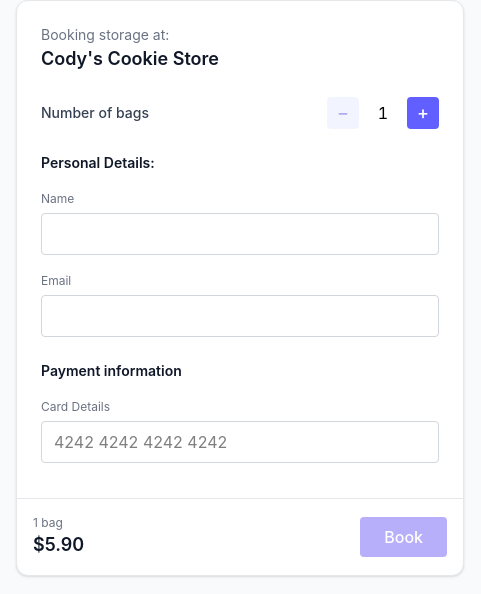
Scenario: BookingForm › updates the price when bags change
Expected: the heading "Cody's Cookie Store" is shown, [41,48,219,69]
Click the button named "Add a bag" at [423, 113], box [407,97,439,129]
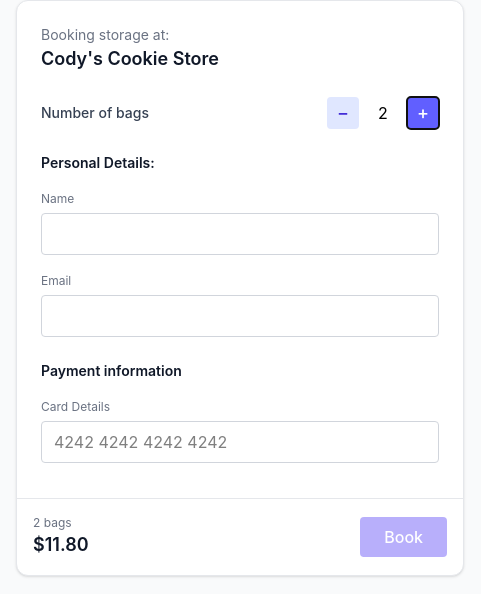
Expected: the text "$11.80" is shown, [33,531,89,559]
Expected: the text "2 bags" is shown, [33,515,72,530]
